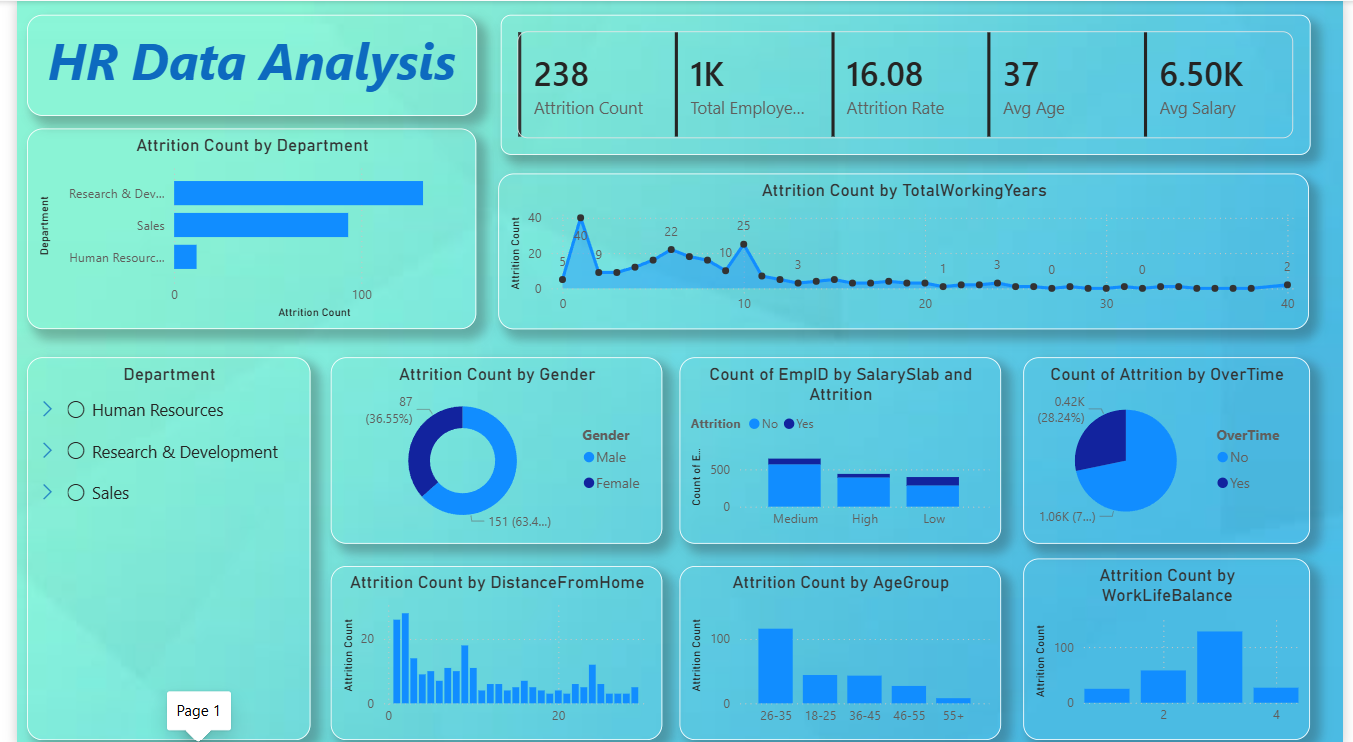

The page's visual inventory and layout, read from the dashboard file:
{"tool":"powerbi","page":{"name":"Page 1","canvas":[1280,720],"ordinal":0},"visuals":[{"type":"textbox","box":[9.7,13.3,434.3,97.7],"z":0},{"type":"cardVisual","fields":{"Data":["HR_Analytics.Attrition Count","HR_Analytics.Total Employees","HR_Analytics.Attrition Rate","HR_Analytics.Avg Age","HR_Analytics.Avg Salary"]},"box":[466.7,13.3,781.7,135],"z":1000},{"type":"barChart","fields":{"Category":["HR_Analytics.Department"],"Y":["HR_Analytics.Attrition Count"]},"box":[10,122.5,433.8,193.8],"z":2000},{"type":"donutChart","fields":{"Category":["HR_Analytics.Gender"],"Y":["HR_Analytics.Attrition Count"]},"box":[303.3,343.3,320,180],"z":3000},{"type":"columnChart","fields":{"Category":["HR_Analytics.AgeGroup"],"Y":["HR_Analytics.Attrition Count"]},"box":[640,545,310,168.3],"z":4000},{"type":"columnChart","fields":{"Category":["HR_Analytics.SalarySlab"],"Series":["HR_Analytics.Attrition"],"Y":["CountNonNull(HR_Analytics.EmpID)"]},"box":[640,343.3,310,180],"z":5000},{"type":"pieChart","fields":{"Category":["HR_Analytics.OverTime"],"Y":["CountNonNull(HR_Analytics.Attrition)"]},"box":[971.7,343.3,276.7,180],"z":6000},{"type":"columnChart","fields":{"Category":["HR_Analytics.WorkLifeBalance"],"Y":["HR_Analytics.Attrition Count"]},"box":[971.7,538.3,276.7,175],"z":7000},{"type":"lineChart","fields":{"Category":["HR_Analytics.TotalWorkingYears"],"Y":["HR_Analytics.Attrition Count"]},"box":[465,166.2,782.5,150],"z":8000},{"type":"clusteredColumnChart","fields":{"Category":["HR_Analytics.DistanceFromHome"],"Y":["HR_Analytics.Attrition Count"]},"box":[303.3,545,320,168.3],"z":9000},{"type":"listSlicer","fields":{"Values":["HR_Analytics.Department","HR_Analytics.AgeGroup","HR_Analytics.Gender"]},"box":[9.9,343.8,273.5,369.7],"z":10000}]}

Visuals, with their boxes in screenshot pixels (x1, y1, x2, y2), scaled from the page's 1280x720 canvas onto the 1353x742 screenshot:
textbox: 10/14/469/114
cardVisual - HR_Analytics.Attrition Count x HR_Analytics.Total Employees: 493/14/1320/153
barChart - HR_Analytics.Department x HR_Analytics.Attrition Count: 11/126/469/326
donutChart - HR_Analytics.Gender x HR_Analytics.Attrition Count: 321/354/659/539
columnChart - HR_Analytics.AgeGroup x HR_Analytics.Attrition Count: 676/562/1004/735
columnChart - HR_Analytics.SalarySlab x HR_Analytics.Attrition: 676/354/1004/539
pieChart - HR_Analytics.OverTime x CountNonNull(HR_Analytics.Attrition): 1027/354/1320/539
columnChart - HR_Analytics.WorkLifeBalance x HR_Analytics.Attrition Count: 1027/555/1320/735
lineChart - HR_Analytics.TotalWorkingYears x HR_Analytics.Attrition Count: 492/171/1319/326
clusteredColumnChart - HR_Analytics.DistanceFromHome x HR_Analytics.Attrition Count: 321/562/659/735
listSlicer - HR_Analytics.Department x HR_Analytics.AgeGroup: 10/354/300/735
